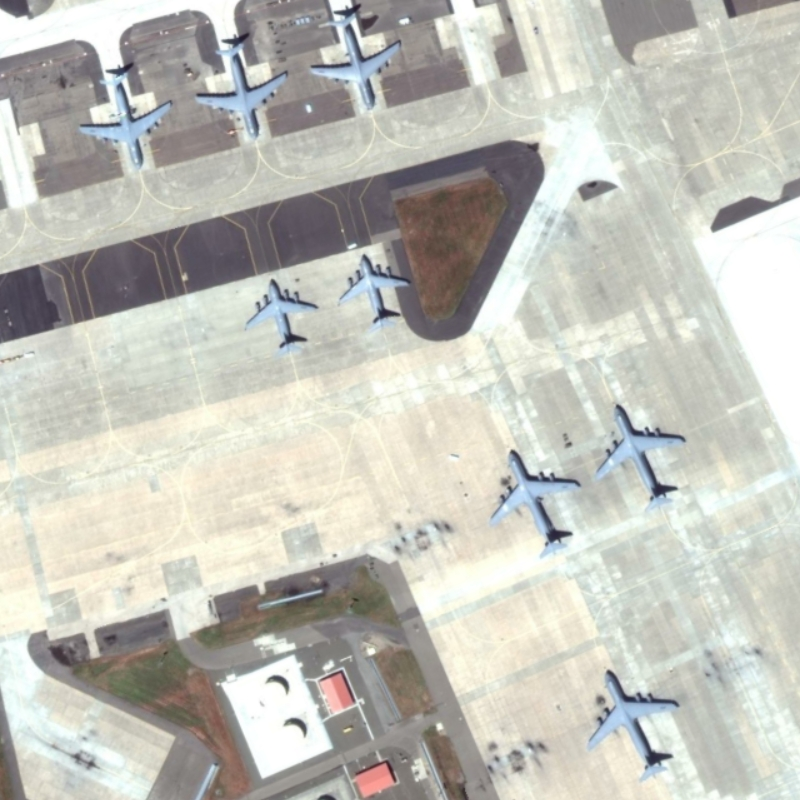A3: (241, 273, 324, 355), (339, 250, 415, 332)
A4: (585, 656, 683, 784), (487, 438, 584, 562), (591, 394, 692, 511), (79, 61, 177, 175), (191, 33, 292, 143), (307, 5, 407, 115)
